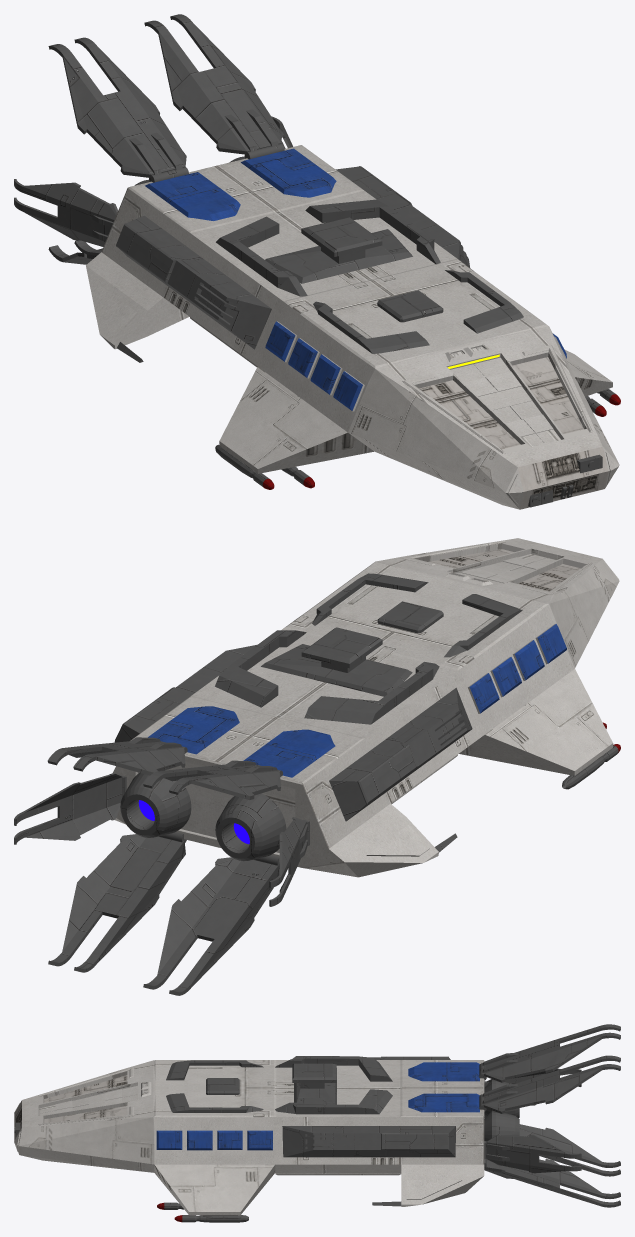
File: hermes.glb
3 renders of one model, top to bottom at view 1: azimuth 30°, elevation 25°; view 2: azimuth 150°, elevation 25°; view 3: azimuth 270°, elevation 25°, orthographic. The views are drawn at different scales.
Parts seen in each view (by area): view 1: Hermes_mid_poly_stripped_down; view 2: Hermes_mid_poly_stripped_down; view 3: Hermes_mid_poly_stripped_down.
Boxes of the visible parts, <box> form: Hermes_mid_poly_stripped_down: <box>14,14,620,509</box>; Hermes_mid_poly_stripped_down: <box>14,538,620,995</box>; Hermes_mid_poly_stripped_down: <box>14,1024,620,1222</box>.
Size of the model in its own units: 2.24 by 1.26 by 4.94.
7 materials, 5 textured.
